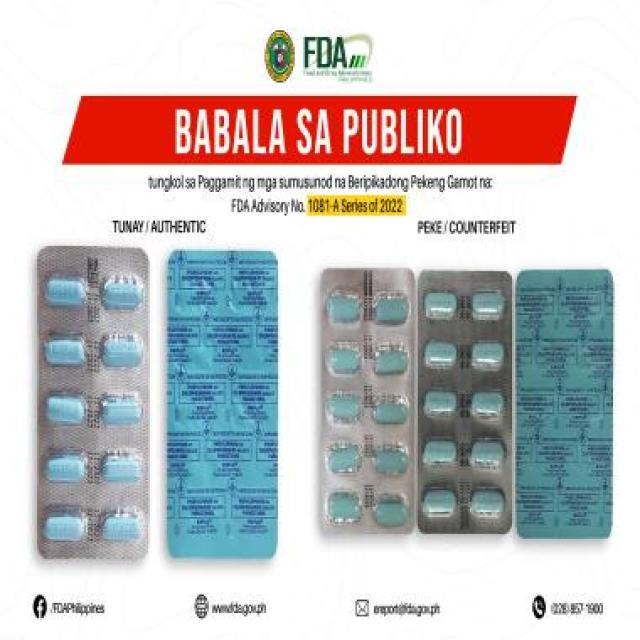Bioflu_Strip: (30, 240, 157, 568), (312, 265, 418, 548), (419, 262, 512, 550)
